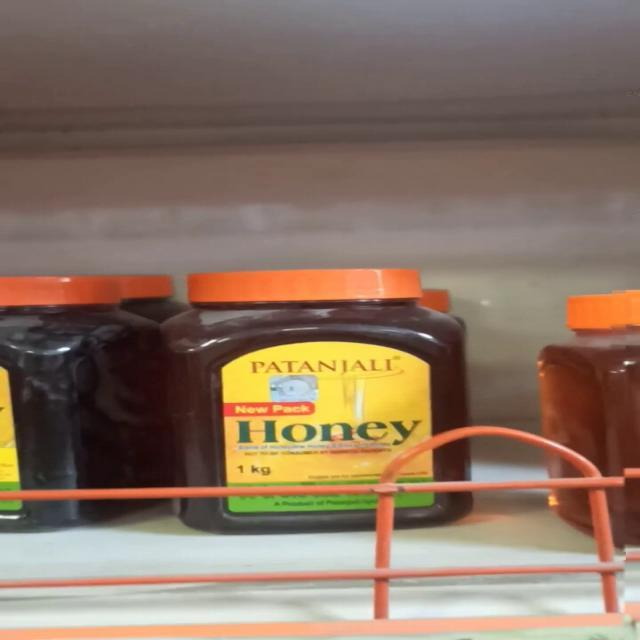Patanjali Honey: (184, 265, 456, 532)
